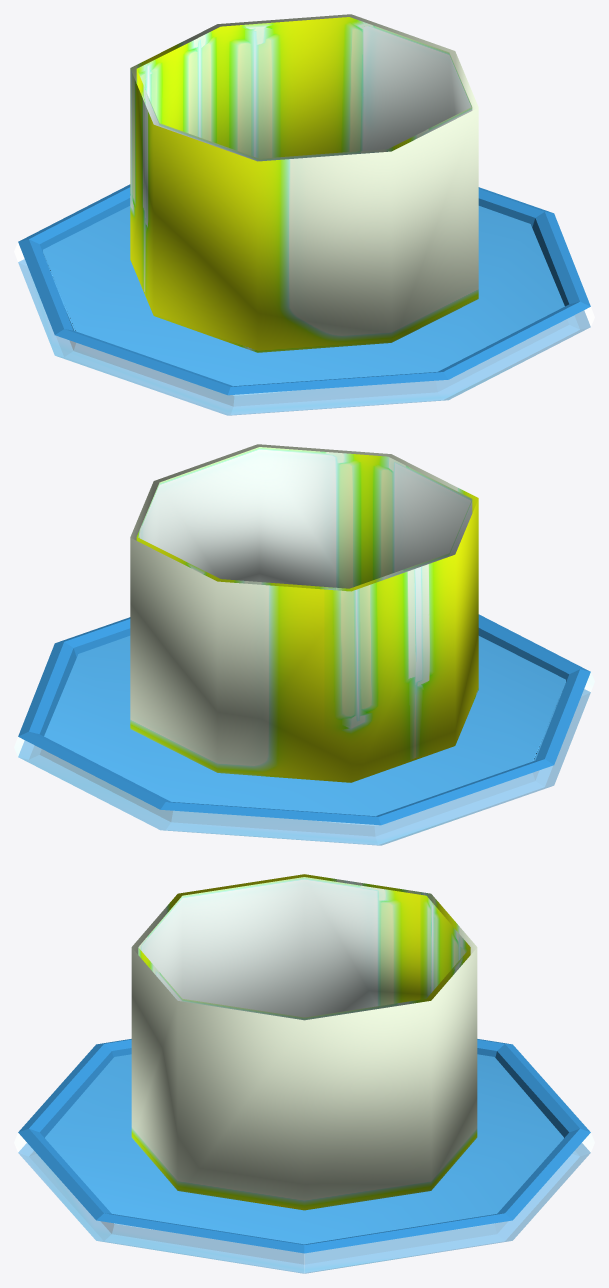
Rendered from stand.fbx.
3 renders of one model, top to bottom at view 1: azimuth 30°, elevation 25°; view 2: azimuth 150°, elevation 25°; view 3: azimuth 270°, elevation 25°, orthographic.
Visible parts, largest first — view 1: Object_10, Object_8, Object_5, Object_6; view 2: Object_10, Object_8, Object_5, Object_6; view 3: Object_10, Object_8, Object_5, Object_6.
Part boxes in pixels (bbox=[...]): Object_10: bbox=[130, 14, 478, 352]; Object_8: bbox=[43, 206, 564, 395]; Object_5: bbox=[18, 184, 590, 415]; Object_6: bbox=[14, 242, 594, 415]; Object_10: bbox=[130, 444, 478, 782]; Object_8: bbox=[44, 636, 565, 825]; Object_5: bbox=[18, 614, 590, 845]; Object_6: bbox=[14, 672, 594, 845]; Object_10: bbox=[131, 874, 477, 1210]; Object_8: bbox=[45, 1054, 563, 1244]; Object_5: bbox=[18, 1039, 590, 1273]; Object_6: bbox=[14, 1133, 594, 1273].
Size of the model in its own units: 259 by 109 by 259.
